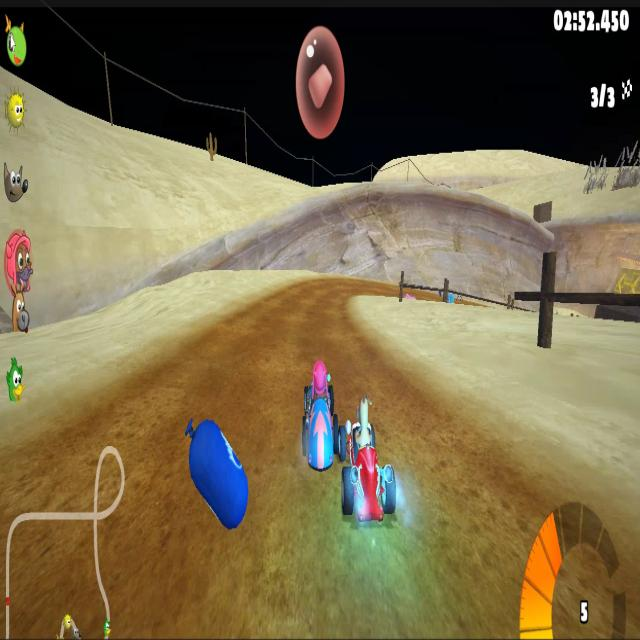player_kart: (296, 367, 344, 473)
track: (2, 545, 637, 640), (0, 451, 175, 542), (396, 442, 549, 546), (252, 468, 344, 557), (225, 321, 293, 407), (95, 389, 175, 450), (302, 273, 350, 359), (175, 353, 226, 408), (347, 352, 394, 401), (399, 394, 447, 434), (263, 292, 301, 324), (352, 274, 402, 297), (413, 286, 442, 301)
